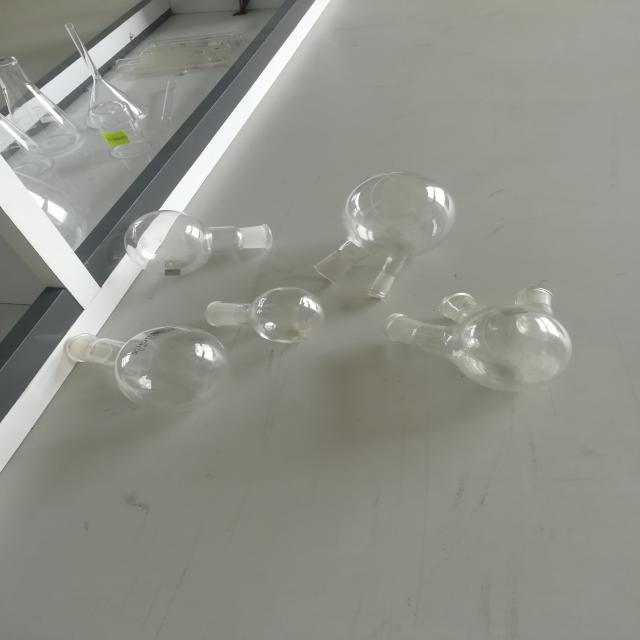Round_Bottom_Flask_Borosilicate_Glass_1_Neck: (41, 305, 234, 424), (100, 186, 298, 293), (168, 260, 341, 363)
Round_Bottom_Flask_Borosilicate_Glass_2_Neck: (353, 258, 604, 414), (315, 162, 471, 308)
